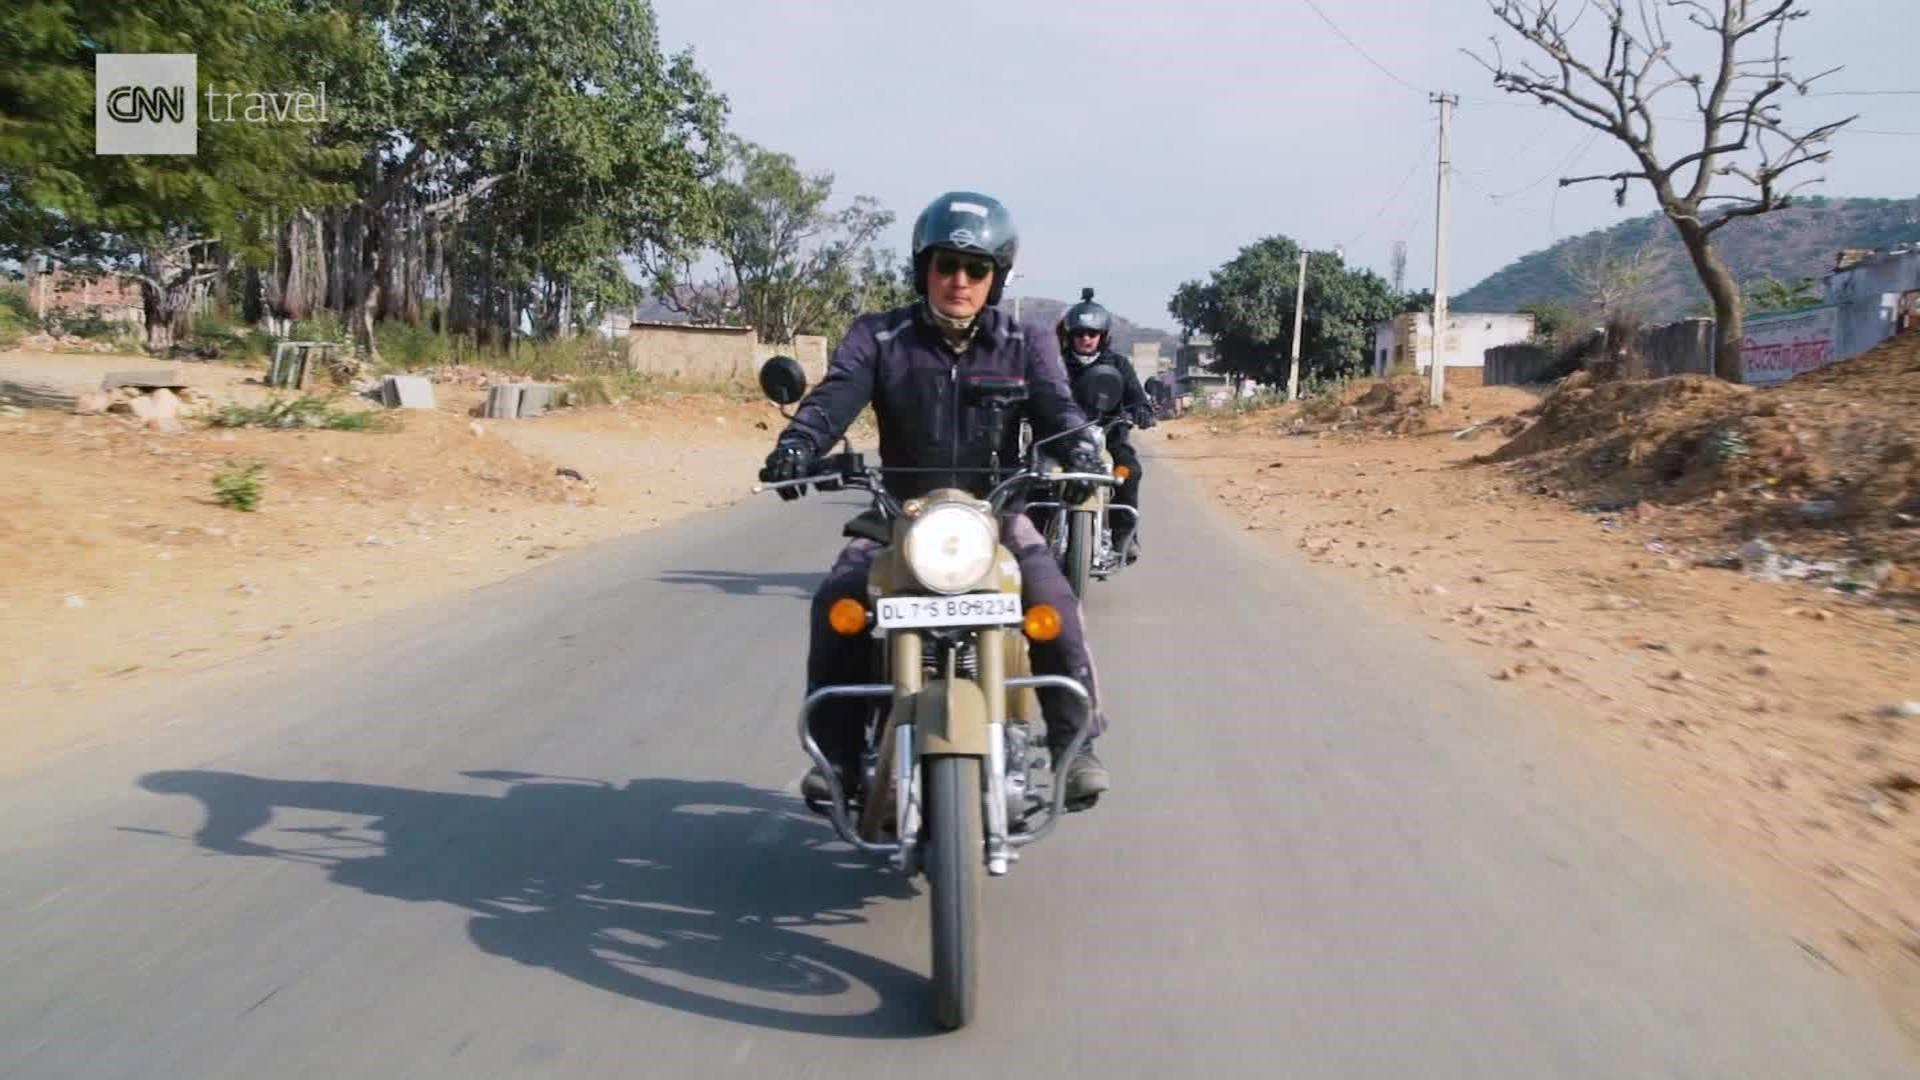MotorCycle: (756, 444, 1151, 1036)
